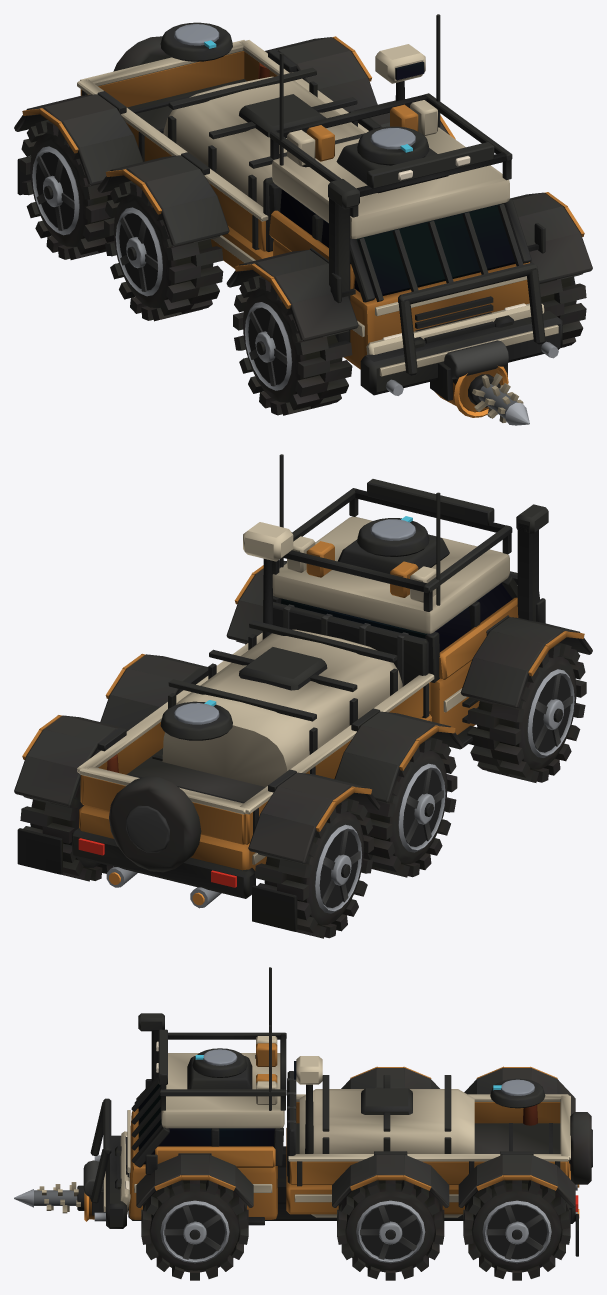
The model's file is ex_rover_5.glb.
The picture shows the model from 3 angles, top to bottom: view 1: azimuth 30°, elevation 25°; view 2: azimuth 150°, elevation 25°; view 3: azimuth 270°, elevation 25°; orthographic projection. The views are drawn at different scales.
Parts seen in each view (by area): view 1: body, wheel_3, wheel_1, wheel_5, wheel_0, drill; view 2: body, wheel_1, wheel_5, wheel_3, wheel_4; view 3: body, wheel_2, wheel_0, wheel_4, drill.
Part boxes in pixels (x1,y1,x2,y2): body: (14,14,592,417); wheel_3: (104,181,223,321); wheel_1: (233,275,352,415); wheel_5: (20,120,114,259); wheel_0: (539,273,586,347); drill: (468,373,529,425); body: (14,454,592,931); wheel_1: (467,643,586,782); wheel_5: (254,798,373,938); wheel_3: (363,737,457,877); wheel_4: (20,749,113,881); body: (83,967,592,1256); wheel_2: (337,1180,444,1280); wheel_0: (141,1180,248,1280); wheel_4: (463,1180,570,1280); drill: (14,1182,84,1213).
Bounding box in the file's own units: 5.14 × 4.99 × 11.31.
